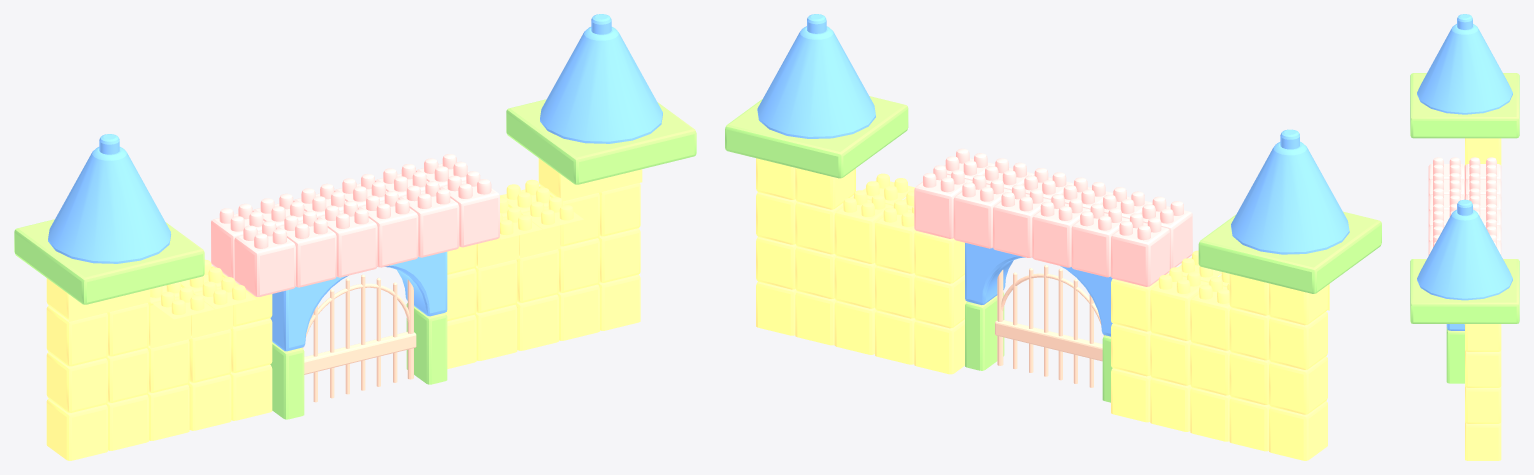
Rendered from castle.fbx.
The picture shows the model from 3 angles, left to right: view 1: azimuth 30°, elevation 25°; view 2: azimuth 150°, elevation 25°; view 3: azimuth 270°, elevation 25°; orthographic projection. The views are drawn at different scales.
Parts seen in each view (by area): view 1: castle; view 2: castle; view 3: castle.
Boxes of the visible parts, x1,y1,x2,y2 form: castle: [14, 14, 696, 460]; castle: [725, 14, 1381, 460]; castle: [1410, 14, 1519, 460].
Size of the model in its own units: 11.13 by 5.45 by 2.22.
